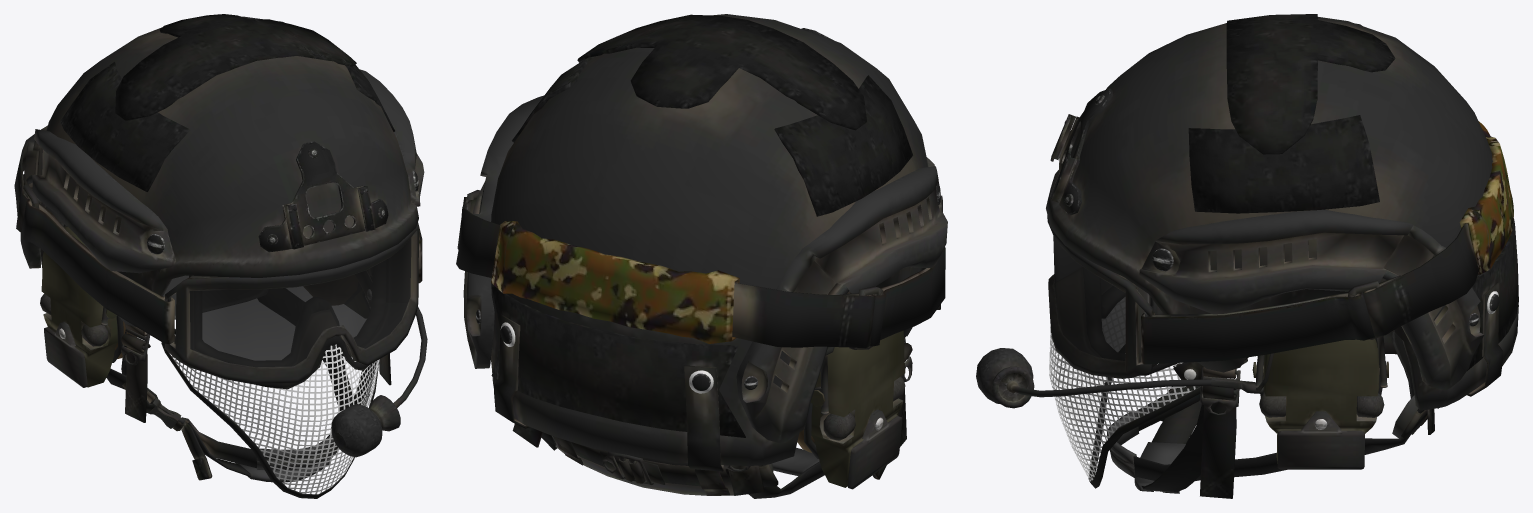
The model's file is casco_a.glb.
3 views of the same model, side by side, from view 1: azimuth 30°, elevation 25°; view 2: azimuth 150°, elevation 25°; view 3: azimuth 270°, elevation 25° (orthographic). The views are drawn at different scales.
Visible parts, largest first — view 1: Final_Helmet Base_0, Final_Glasses_0, Final_Mask_0; view 2: Final_Helmet Base_0; view 3: Final_Helmet Base_0, Final_Glasses_0, Final_Mask_0.
Part boxes in pixels (x1,y1,x2,y2): Final_Helmet Base_0: (14,14,427,498); Final_Glasses_0: (189,237,411,367); Final_Mask_0: (172,334,379,494); Final_Helmet Base_0: (456,14,947,498); Final_Helmet Base_0: (976,14,1518,498); Final_Glasses_0: (1053,236,1125,360); Final_Mask_0: (1049,301,1195,481).
Bounding box in the file's own units: 50.01 × 55.63 × 60.96.
3 materials, 2 textured.
